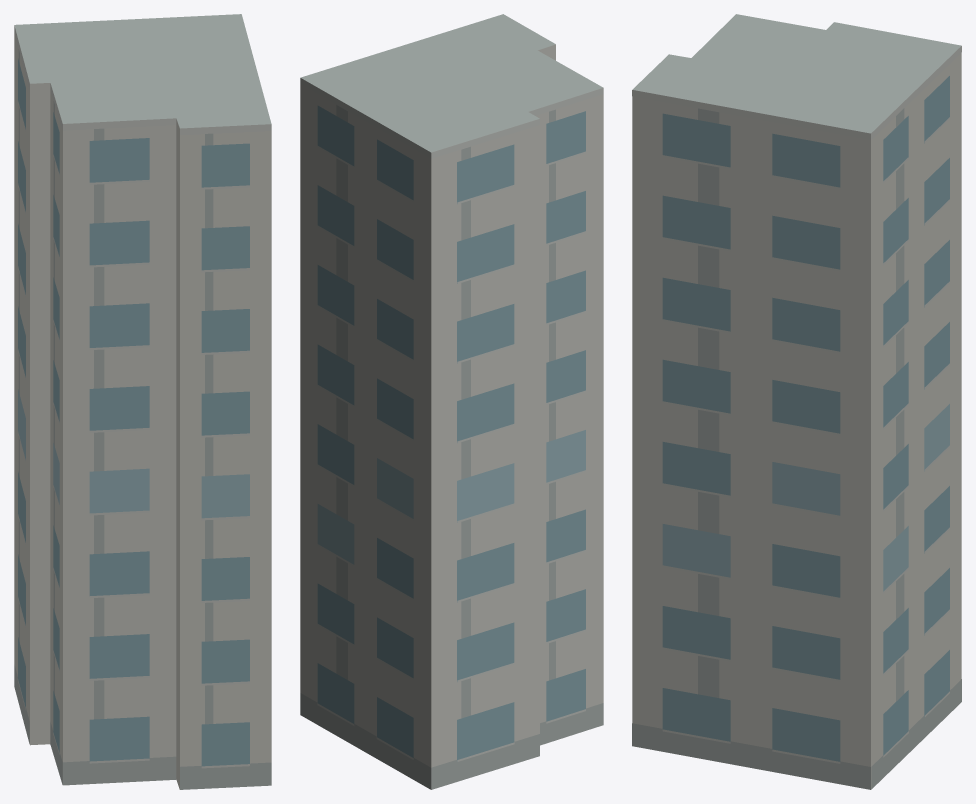
The model's file is survey-upis-32930458.glb.
The picture shows the model from 3 angles, left to right: view 1: azimuth 30°, elevation 25°; view 2: azimuth 150°, elevation 25°; view 3: azimuth 270°, elevation 25°; orthographic projection. The views are drawn at different scales.
Parts seen in each view (by area): view 1: survey-upis-32930458.tmp; view 2: survey-upis-32930458.tmp; view 3: survey-upis-32930458.tmp.
Boxes of the visible parts, x1=… form: survey-upis-32930458.tmp: x1=14, y1=14, x2=271, y2=789; survey-upis-32930458.tmp: x1=300, y1=14, x2=603, y2=789; survey-upis-32930458.tmp: x1=632, y1=14, x2=961, y2=789.
Size of the model in its own units: 9.46 by 24.2 by 11.02.
